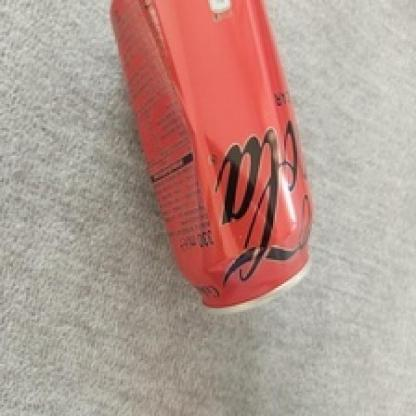Can: (105, 0, 313, 314)
